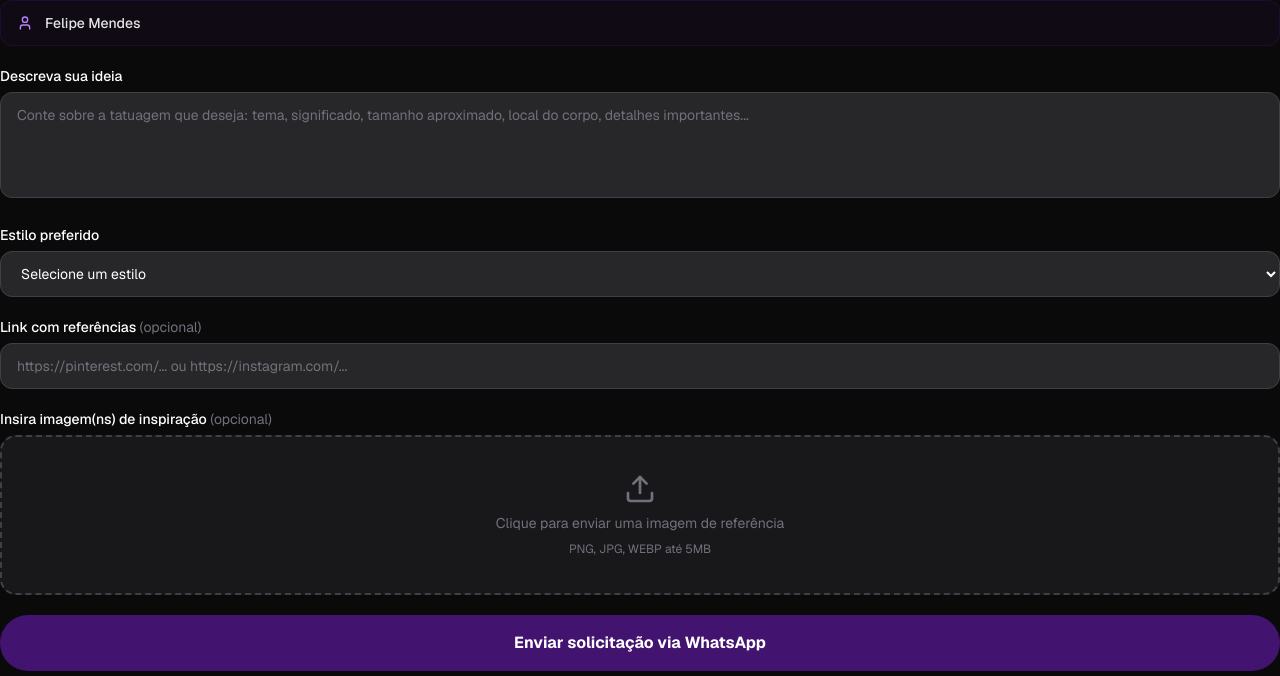
Test: CustomOrderForm › exibe erro se URL de referencia for invalida
This screenshot has width=1280, height=676.
Step 1. Type "nao-e-url" into the field labelled "Link com referências (opcional)" → (640, 366), box [0,343,1279,389]
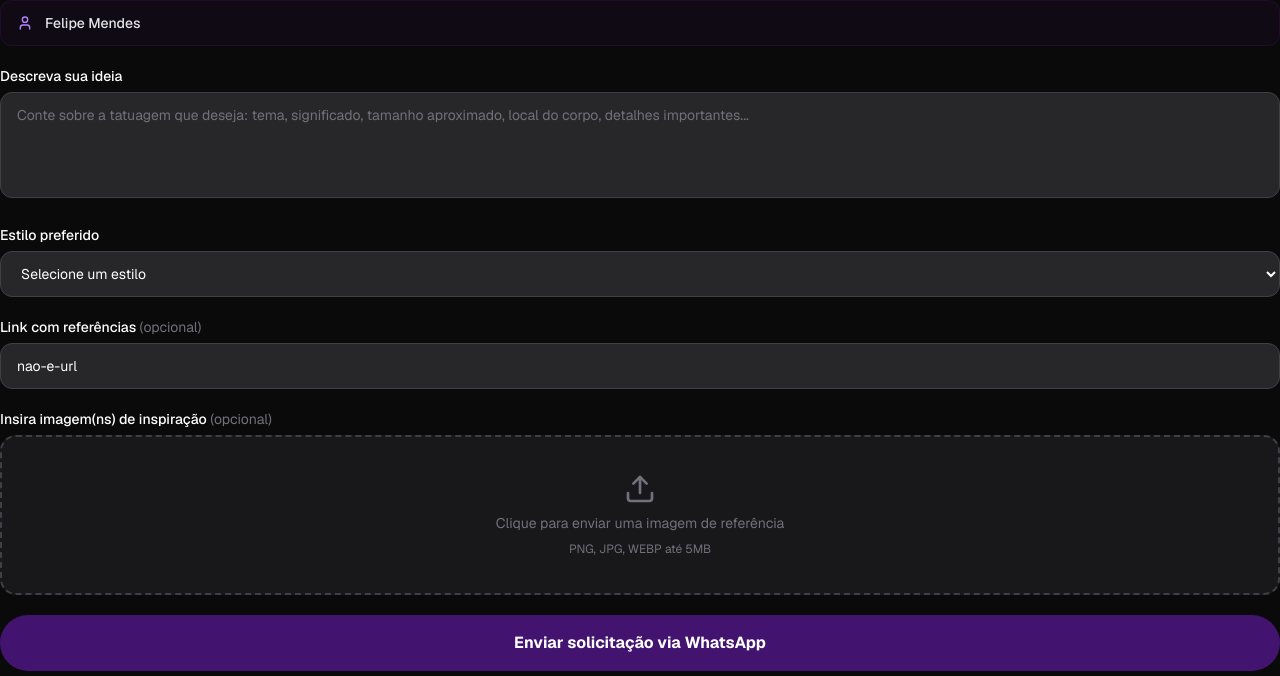
Step 2. Click the button "Enviar solicitação via WhatsApp" → click(640, 643), box [0,615,1279,671]
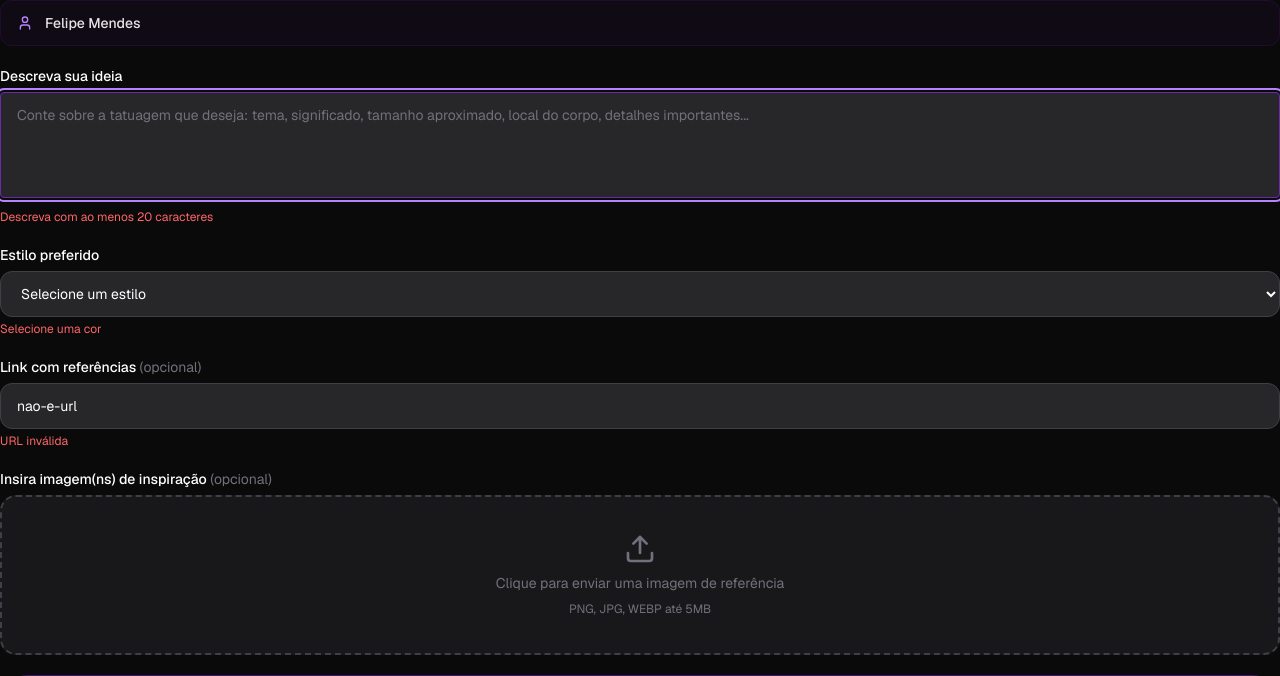
Check: the text "URL inválida" is shown, box [0,433,68,449]
